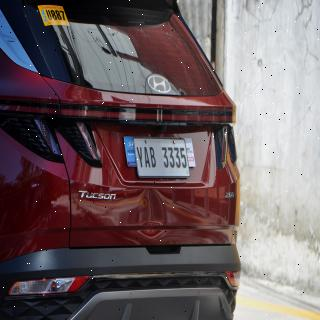license: (134, 138, 191, 179)
